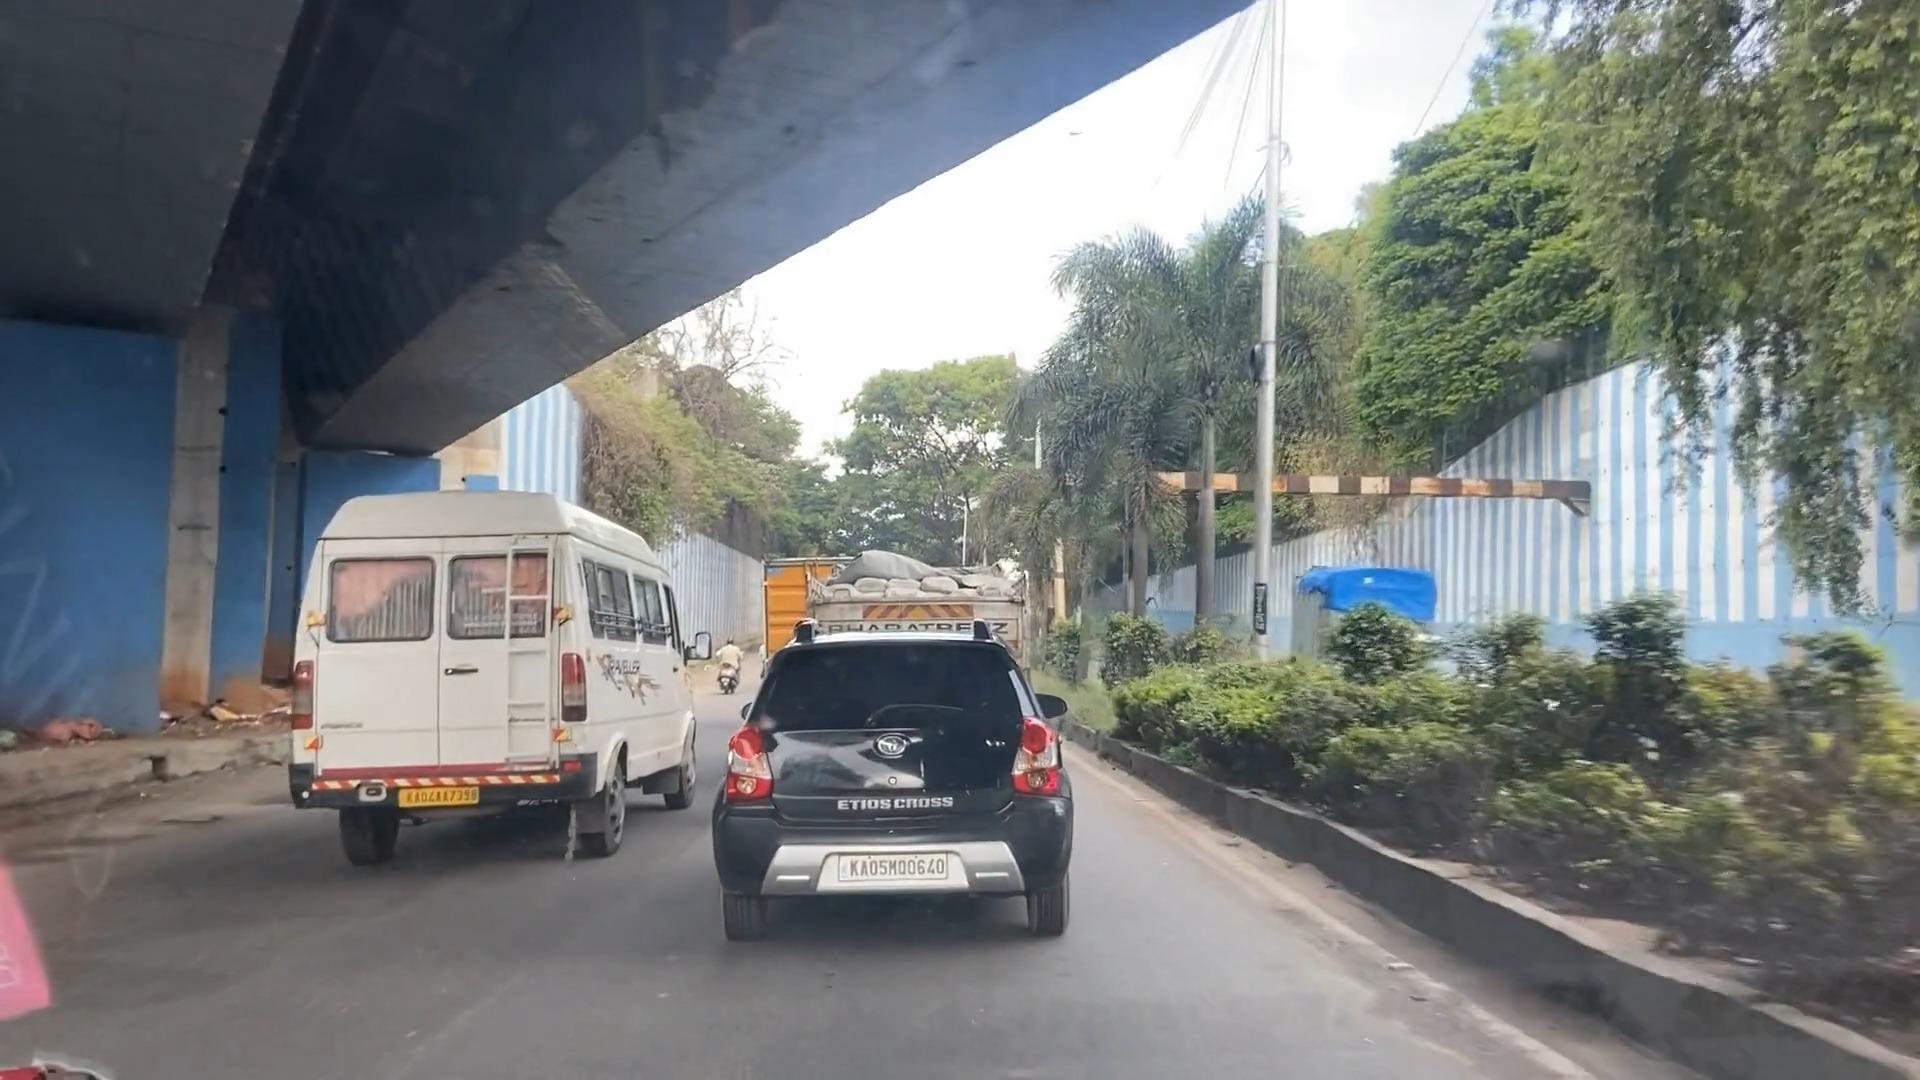HMV: (268, 493, 709, 870)
LMV: (691, 603, 1071, 947)
